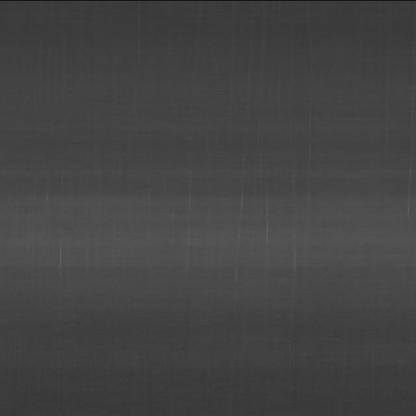waist_folding: (84, 179, 360, 294)
